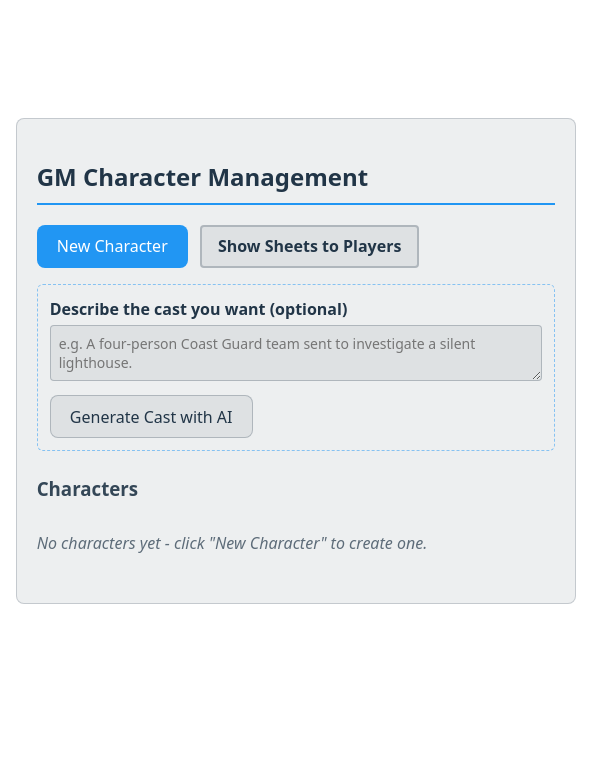
Scenario: CastAiGenerator (via CharacterSheet) › drafts characters and creates one as a real character on accept
The width and height of the screenshot is (593, 760).
Step 1. Click the button "Generate Cast with AI" → (151, 416), box x1=50 y1=395 x2=253 y2=438
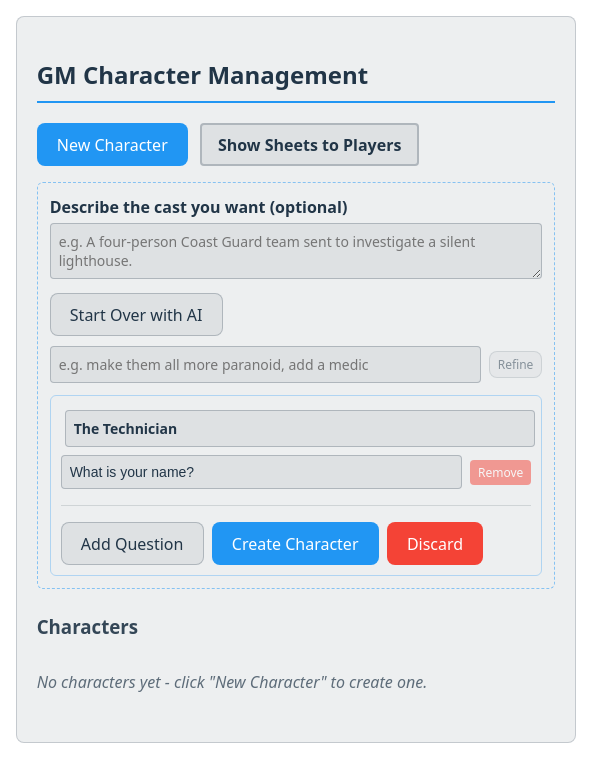
Expected: the 1st field showing "The Technician" is shown, x1=65 y1=410 x2=535 y2=447
Step 2. Click the button "Create Character" → (295, 544), box x1=212 y1=522 x2=379 y2=566
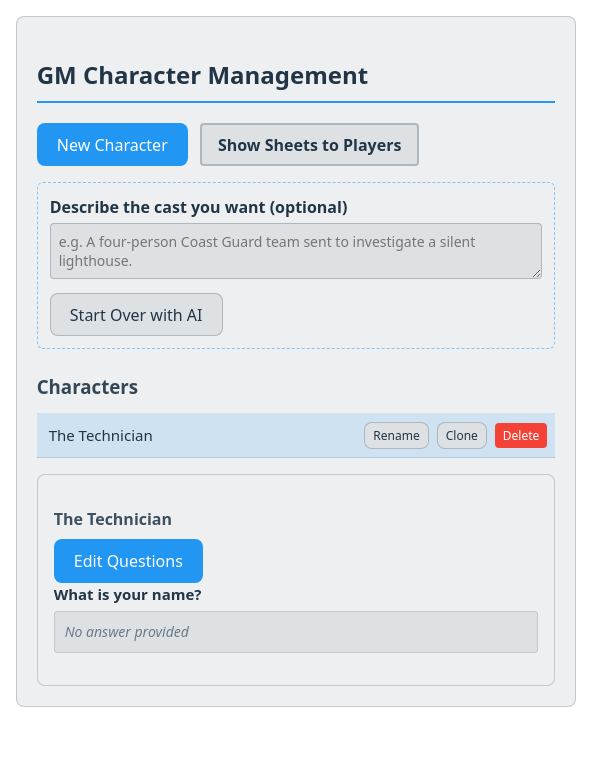
Expected: the button "The Technician" is shown, x1=45 y1=421 x2=356 y2=449
